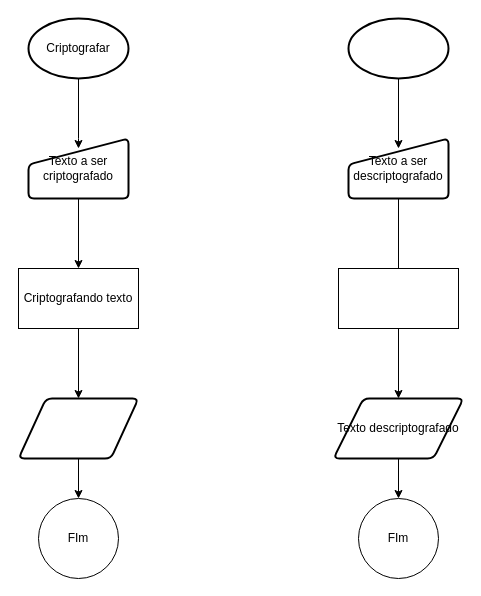
Some shapes in this 481 by 596 pixel diagram are drawn without their labels. Each missing label, with the centre of its shape:
Descriptografar: the point at 398,48
Desriptografando texto: the point at 398,298
Texto criptografado: the point at 78,428
